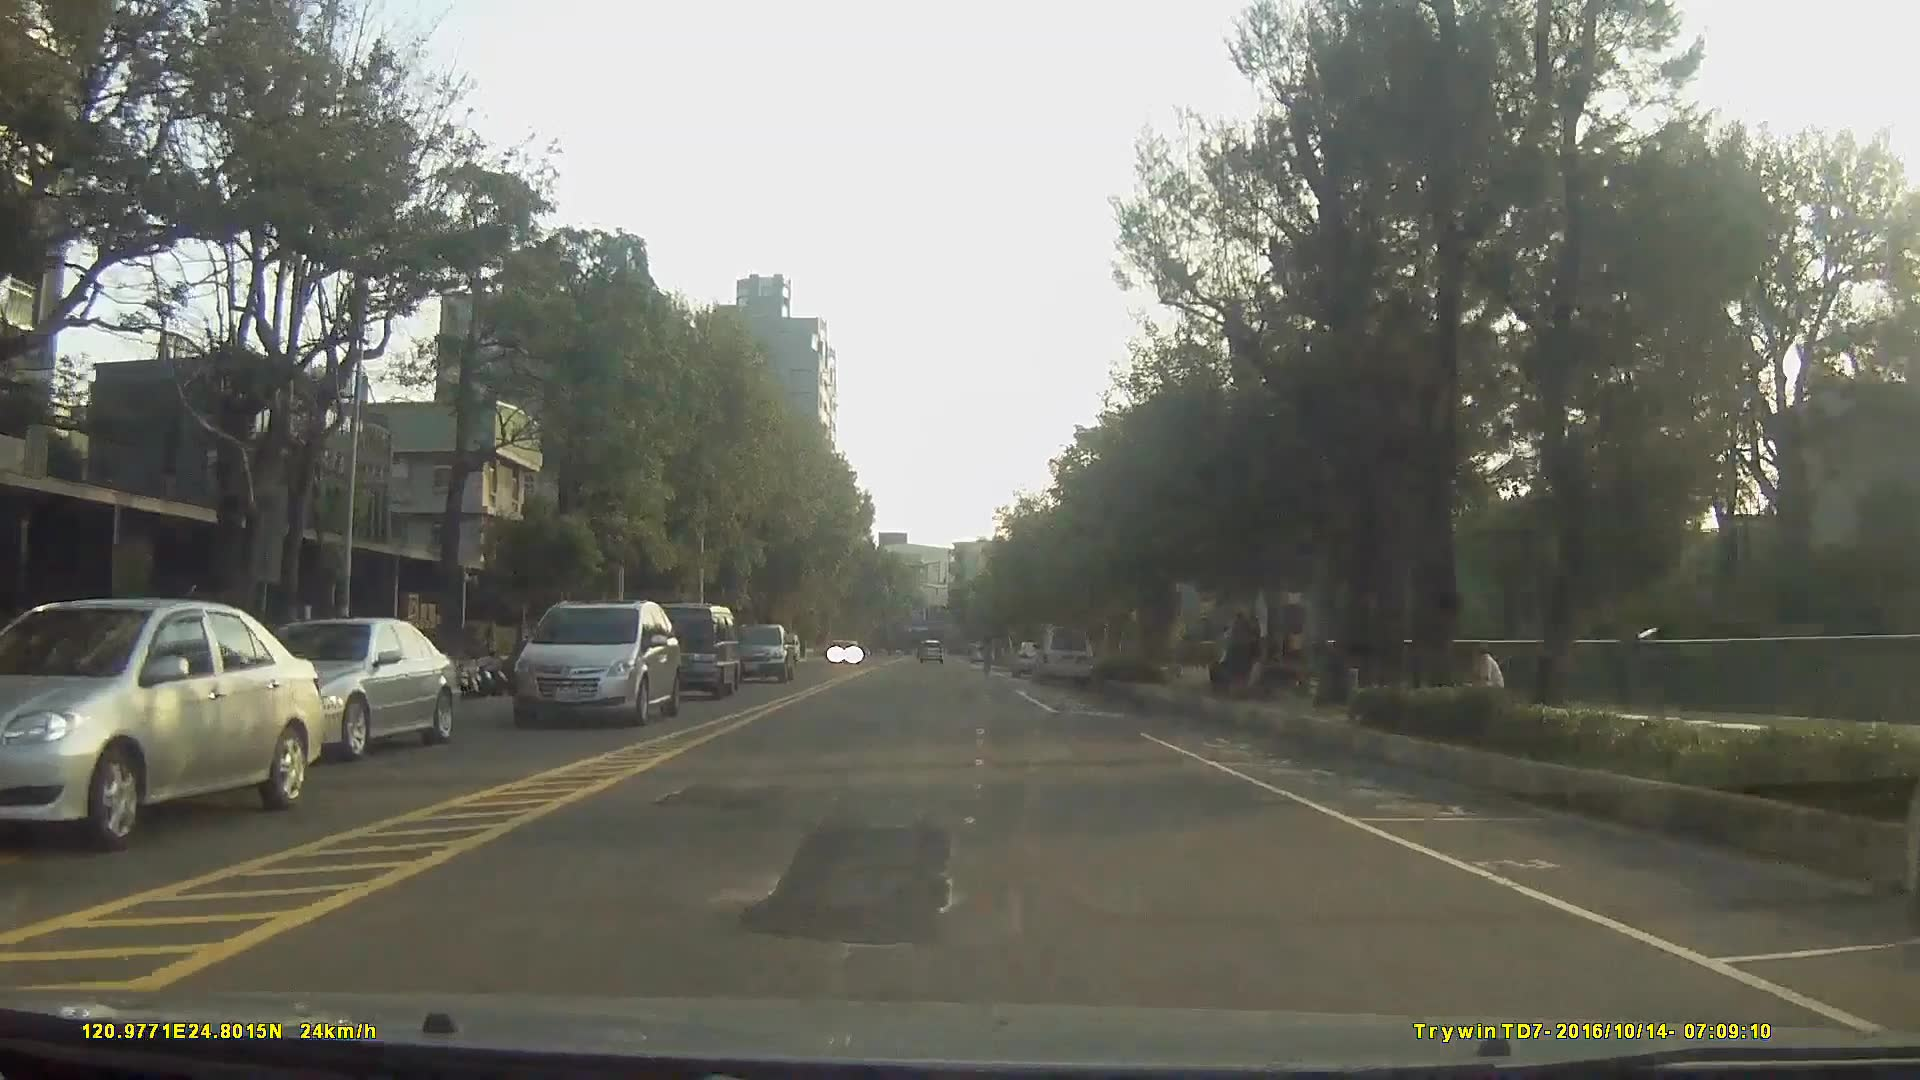rider: (977, 632, 997, 678)
vehicle: (0, 597, 322, 847), (234, 618, 457, 759), (508, 601, 680, 728), (632, 601, 738, 700), (722, 620, 791, 680), (1031, 623, 1093, 685), (1012, 641, 1054, 683), (915, 639, 944, 663)
